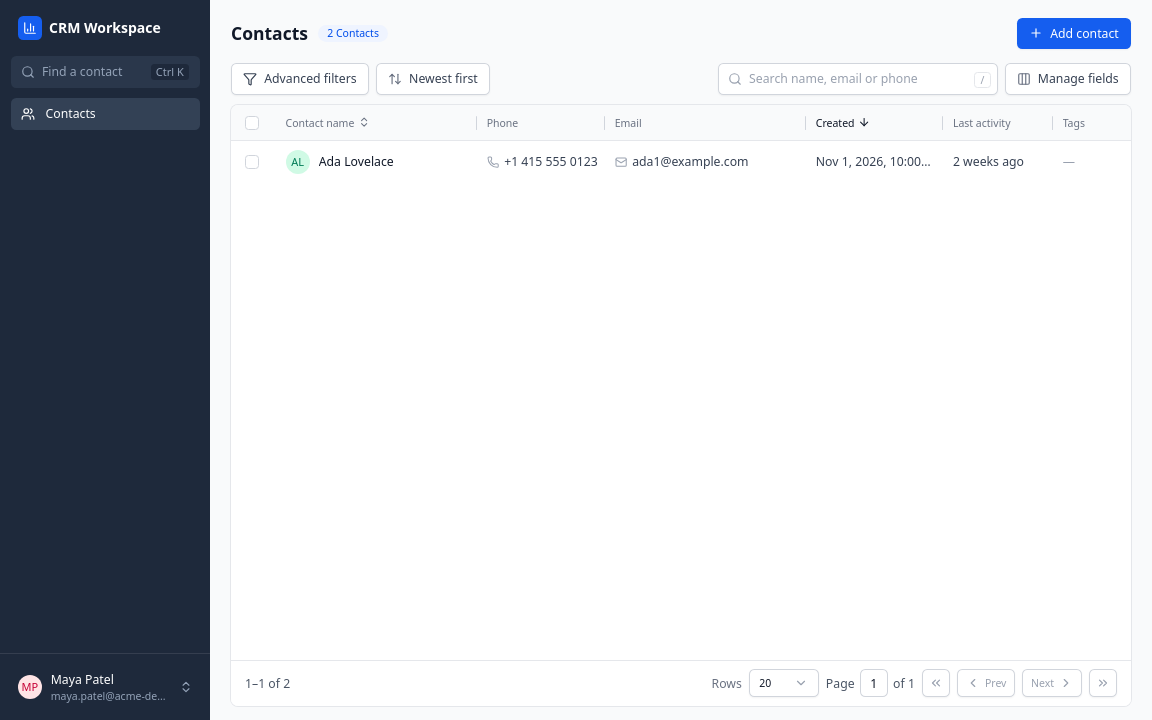
Test: ContactsPage › opens the shortcut list with Ctrl+H, even from the search box
Expected: the table is shown, [231,105,1131,182]
Click the search field named "search contacts" at (858, 79), box [718,63,998,94]
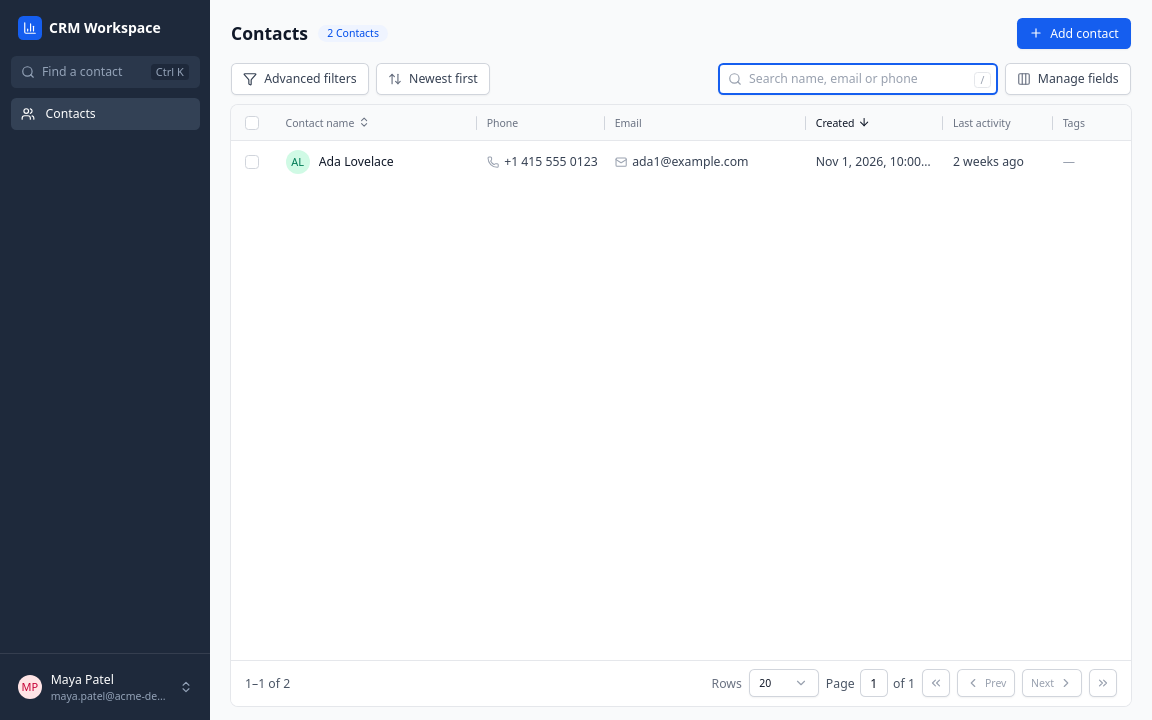
Type keys "{Control>}h{/Control}"
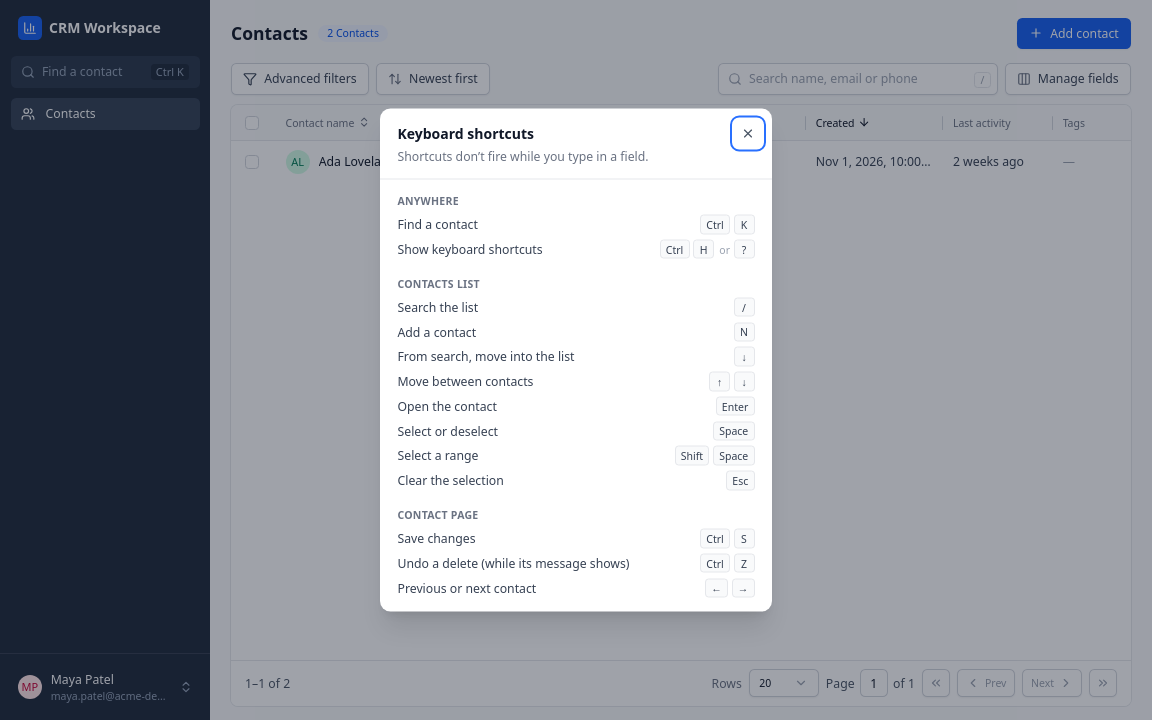
Expected: the dialog "Keyboard shortcuts" is shown, [380,108,772,612]
